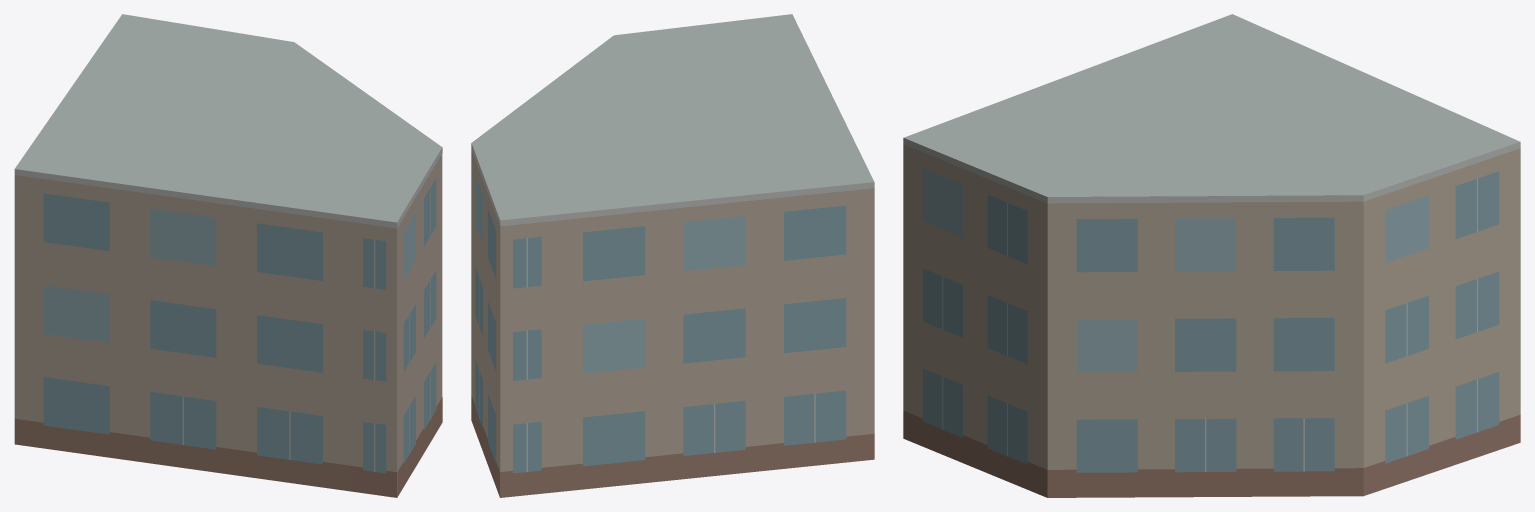
The model's file is survey-upis-33034543.glb.
3 views of the same model, side by side, from view 1: azimuth 30°, elevation 25°; view 2: azimuth 150°, elevation 25°; view 3: azimuth 270°, elevation 25° (orthographic). The views are drawn at different scales.
Parts seen in each view (by area): view 1: survey-upis-33034543.tmp; view 2: survey-upis-33034543.tmp; view 3: survey-upis-33034543.tmp.
Part boxes in pixels (x1,y1,x2,y2): survey-upis-33034543.tmp: [14, 14, 442, 497]; survey-upis-33034543.tmp: [471, 14, 874, 497]; survey-upis-33034543.tmp: [903, 14, 1520, 497].
Size of the model in its own units: 14.78 by 11.32 by 21.05.
